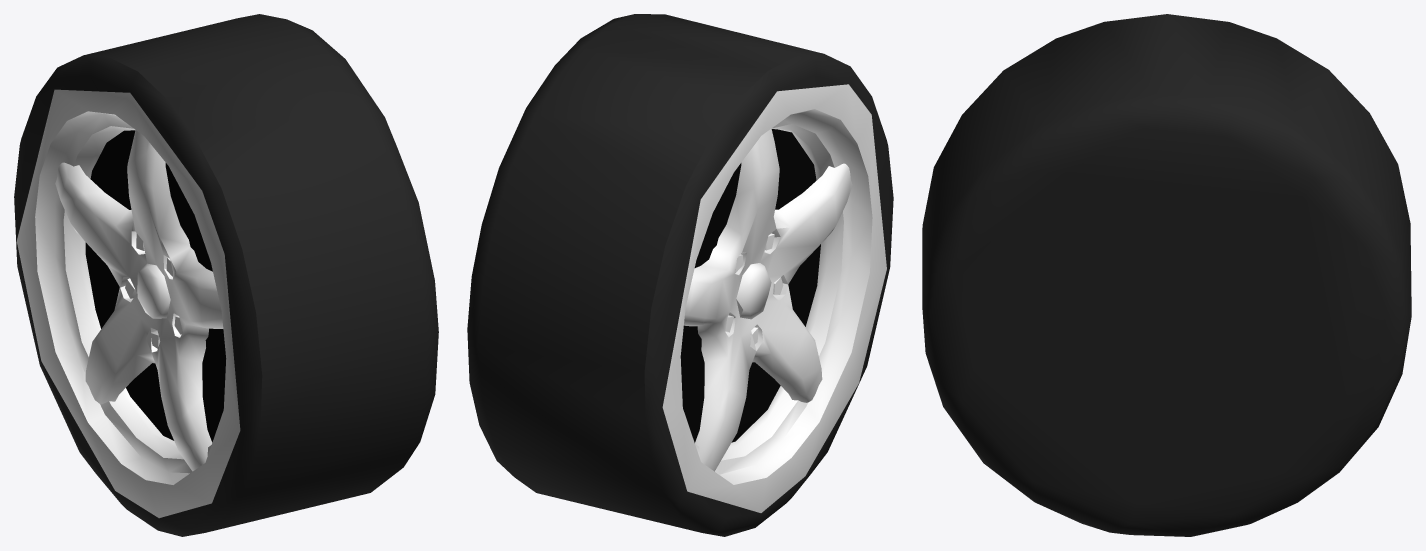
File: mazda_rx7_fd_wheel.obj
The picture shows the model from 3 angles, left to right: view 1: azimuth 30°, elevation 25°; view 2: azimuth 150°, elevation 25°; view 3: azimuth 270°, elevation 25°; orthographic projection.
Parts seen in each view (by area): view 1: mazda_rx7_fd_wheel_Circle.005; view 2: mazda_rx7_fd_wheel_Circle.005; view 3: mazda_rx7_fd_wheel_Circle.005.
Boxes of the visible parts, x1,y1,x2,y2 form: mazda_rx7_fd_wheel_Circle.005: (14, 14, 438, 536); mazda_rx7_fd_wheel_Circle.005: (467, 14, 893, 536); mazda_rx7_fd_wheel_Circle.005: (922, 14, 1411, 536).
Bounding box in the file's own units: 0.2911 × 0.6323 × 0.6337.
